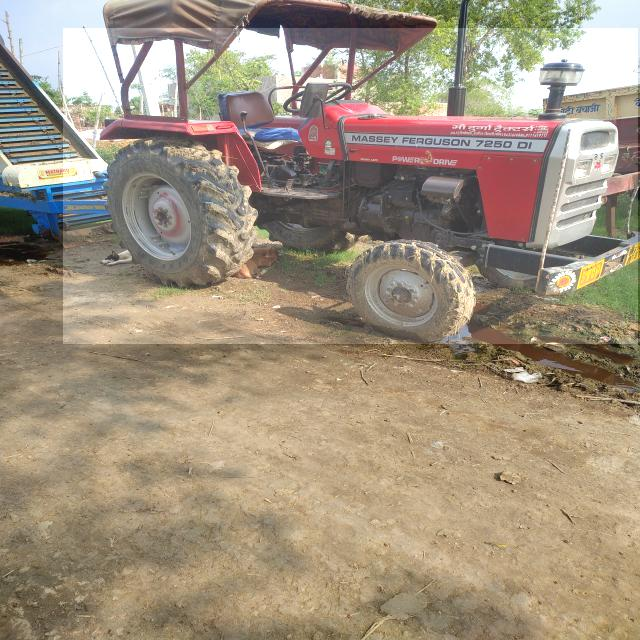Tractot: (63, 28, 638, 344)
